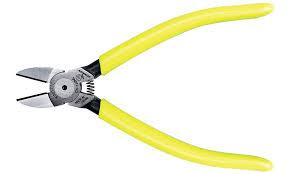pliers: (14, 0, 274, 170)
